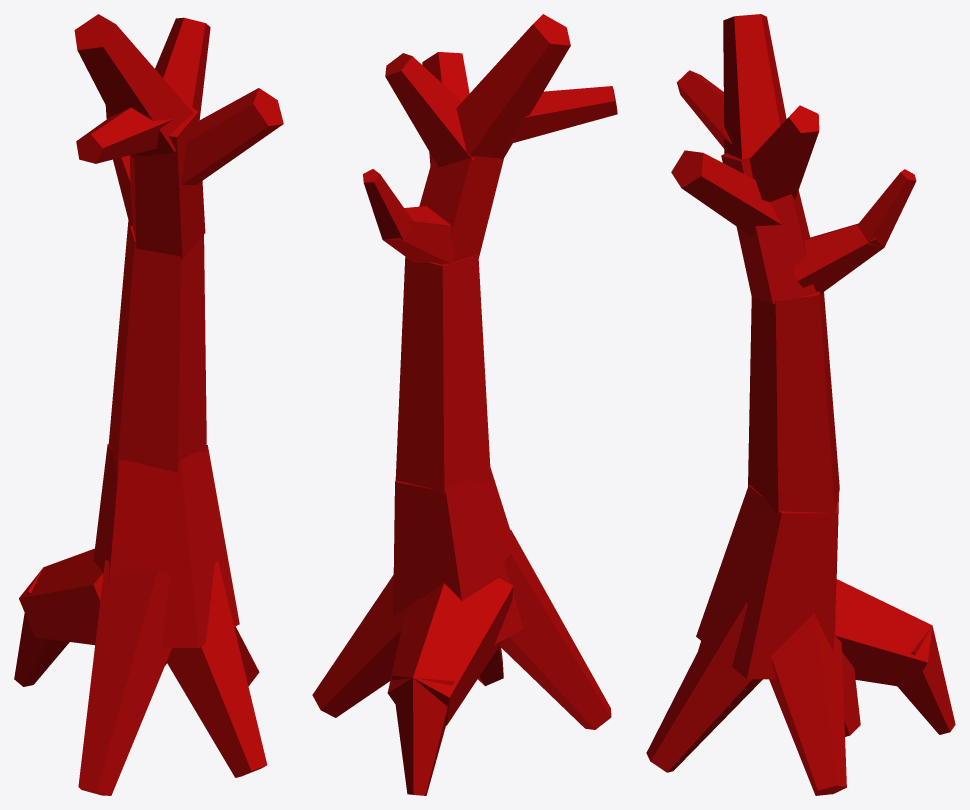
Rendered from SM_Env_Tree_Forest_02_Collision.gltf.
3 views of the same model, side by side, from view 1: azimuth 30°, elevation 25°; view 2: azimuth 150°, elevation 25°; view 3: azimuth 270°, elevation 25° (orthographic). The views are drawn at different scales.
Parts seen in each view (by area): view 1: SM_Env_Tree_Forest_02_Collision; view 2: SM_Env_Tree_Forest_02_Collision; view 3: SM_Env_Tree_Forest_02_Collision.
Part boxes in pixels (x1,y1,x2,y2): SM_Env_Tree_Forest_02_Collision: (14,14,283,795); SM_Env_Tree_Forest_02_Collision: (312,14,617,795); SM_Env_Tree_Forest_02_Collision: (646,14,955,795).
Bounding box in the file's own units: 3.06 × 8.99 × 3.53.
